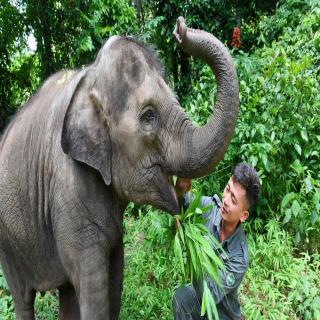Elephant: (0, 18, 248, 320)
